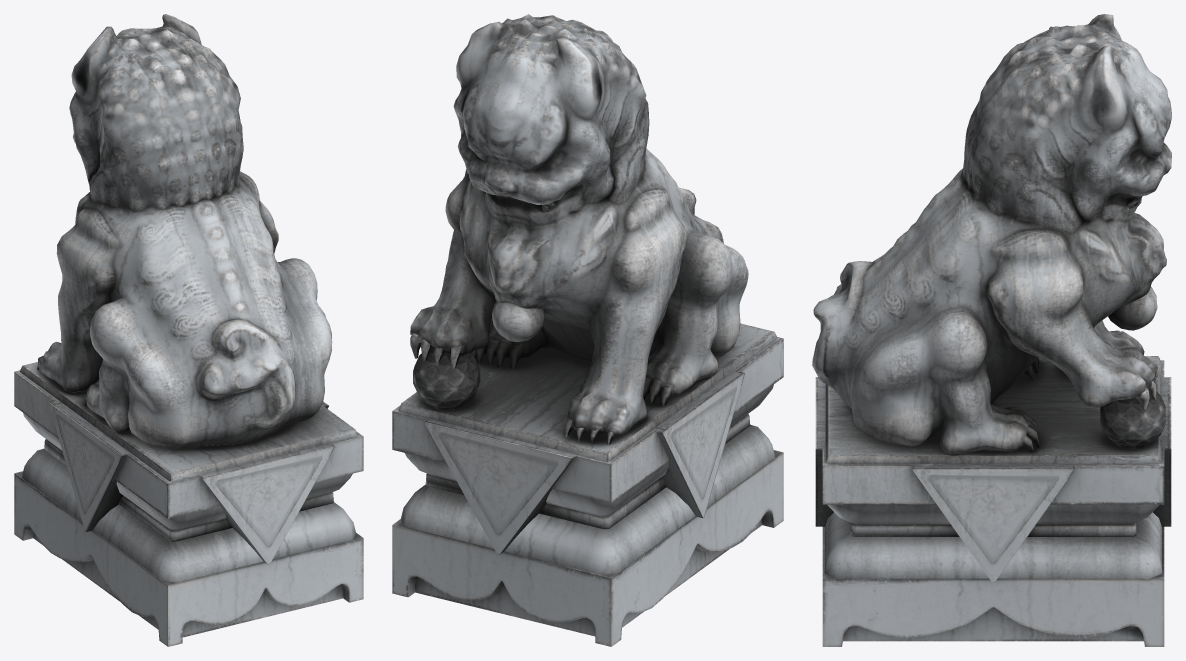
Rendered from 0statue - chinese_lion_statue.glb.
3 renders of one model, left to right at view 1: azimuth 30°, elevation 25°; view 2: azimuth 150°, elevation 25°; view 3: azimuth 270°, elevation 25°, orthographic. The views are drawn at different scales.
Visible parts, largest first — view 1: Sphere:001_Sphere:028, Cube:003_Cube:005, Cube:002_Cube:004, Cube:004_Cube:037, Cube:015_Cube:036; view 2: Sphere:001_Sphere:028, Cube:003_Cube:005, Cube:002_Cube:004, Cube:004_Cube:037, Sphere:003_Sphere:030, Cube:015_Cube:036, Sphere:002_Sphere:029, Cube:009_Cube:046, Cube:006_Cube:044; view 3: Sphere:001_Sphere:028, Cube:003_Cube:005, Cube:002_Cube:004, Cube:004_Cube:037, Cube:015_Cube:036, Sphere:003_Sphere:030, Sphere:002_Sphere:029.
Part boxes in pixels (bbox=[...]): Sphere:001_Sphere:028: bbox=[37, 14, 332, 450]; Cube:003_Cube:005: bbox=[14, 362, 363, 564]; Cube:002_Cube:004: bbox=[14, 471, 363, 646]; Cube:004_Cube:037: bbox=[22, 413, 356, 582]; Cube:015_Cube:036: bbox=[44, 439, 333, 541]; Sphere:001_Sphere:028: bbox=[410, 14, 748, 436]; Cube:003_Cube:005: bbox=[392, 323, 783, 554]; Cube:002_Cube:004: bbox=[392, 450, 783, 646]; Cube:004_Cube:037: bbox=[400, 384, 775, 574]; Sphere:003_Sphere:030: bbox=[413, 347, 480, 409]; Cube:015_Cube:036: bbox=[425, 414, 750, 529]; Sphere:002_Sphere:029: bbox=[492, 301, 545, 342]; Cube:009_Cube:046: bbox=[410, 333, 615, 445]; Cube:006_Cube:044: bbox=[471, 339, 523, 369]; Sphere:001_Sphere:028: bbox=[812, 14, 1171, 454]; Cube:003_Cube:005: bbox=[815, 356, 1171, 582]; Cube:002_Cube:004: bbox=[822, 526, 1164, 646]; Cube:004_Cube:037: bbox=[824, 504, 1162, 578]; Cube:015_Cube:036: bbox=[850, 522, 1136, 536]; Sphere:003_Sphere:030: bbox=[1100, 391, 1165, 448]; Sphere:002_Sphere:029: bbox=[1108, 286, 1157, 330].
Size of the model in its own units: 1.56 by 3.45 by 1.99.
Materials: 1 (1 with a texture image).
